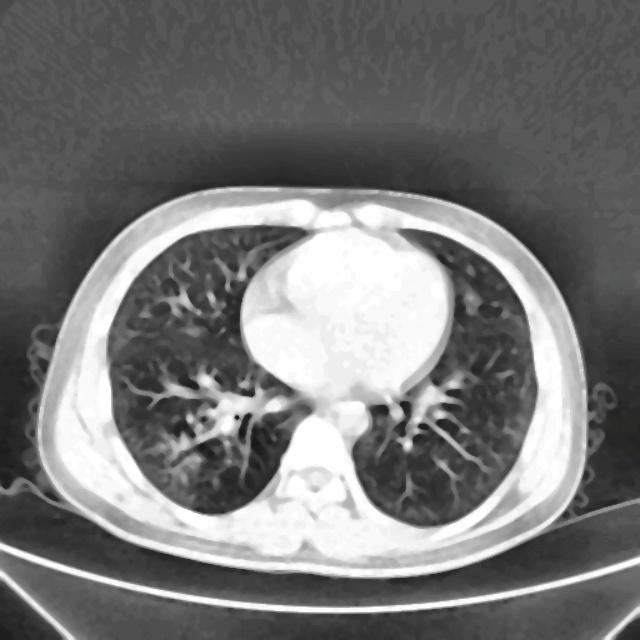covid: (28, 184, 589, 578)
